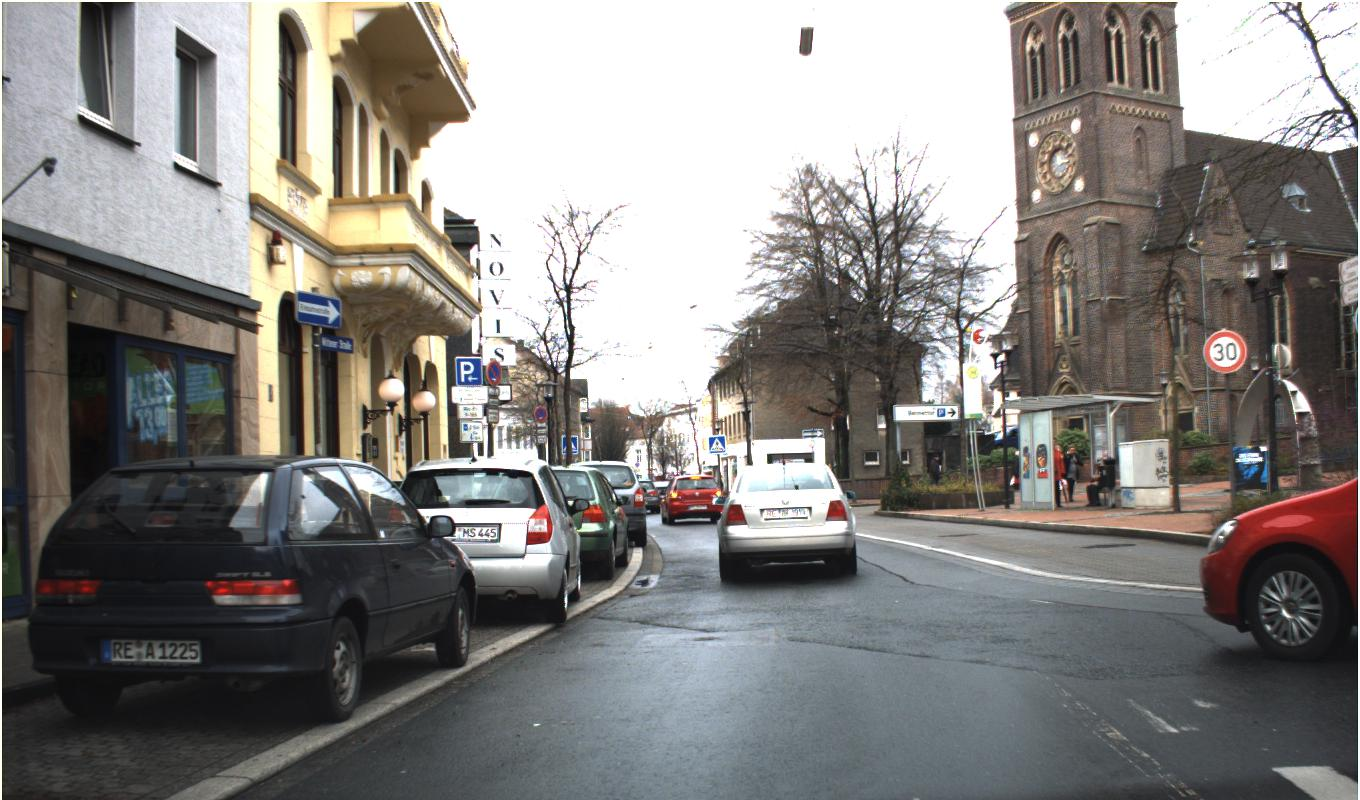prohibitory: (1202, 329, 1247, 374)
